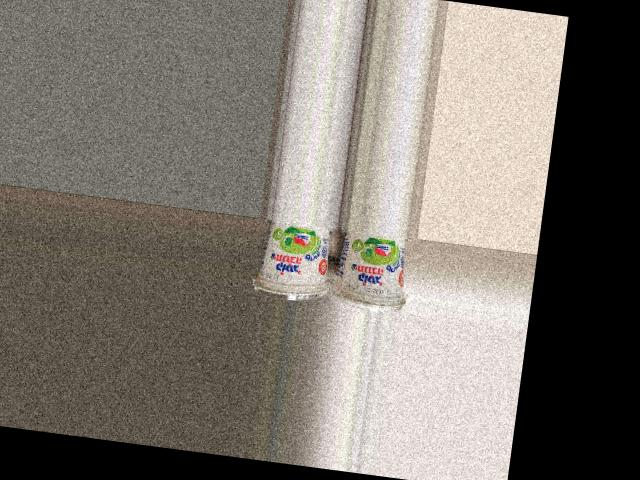cotage: (257, 218, 338, 303)
